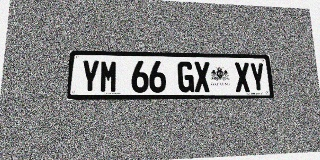6: (131, 61, 149, 93), (149, 61, 166, 93)
G: (177, 61, 194, 92)
M: (99, 60, 118, 93)
X: (194, 62, 211, 92), (234, 62, 251, 92)
Y: (80, 60, 100, 93), (249, 62, 266, 92)
